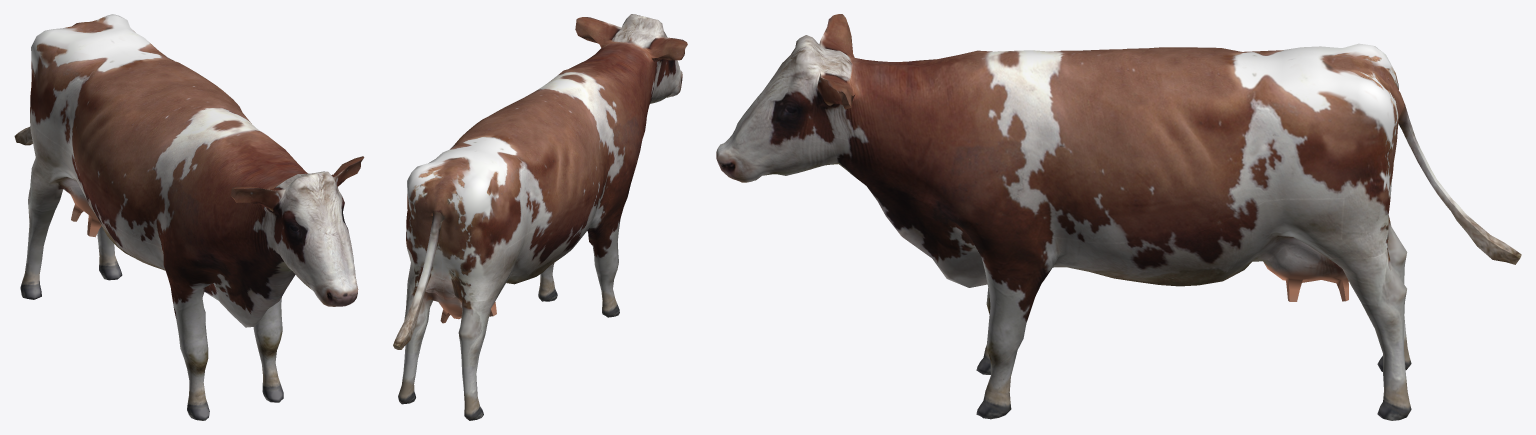
The picture shows the model from 3 angles, left to right: view 1: azimuth 30°, elevation 25°; view 2: azimuth 150°, elevation 25°; view 3: azimuth 270°, elevation 25°; orthographic projection. The views are drawn at different scales.
Parts seen in each view (by area): view 1: _gltfNode_0; view 2: _gltfNode_0; view 3: _gltfNode_0.
Boxes of the visible parts, x1,y1,x2,y2 form: _gltfNode_0: (14,14,364,420); _gltfNode_0: (393,14,687,420); _gltfNode_0: (716,14,1521,420).
Size of the model in its own units: 7.4 by 14.31 by 29.69.
Materials: 1 (1 with a texture image).
